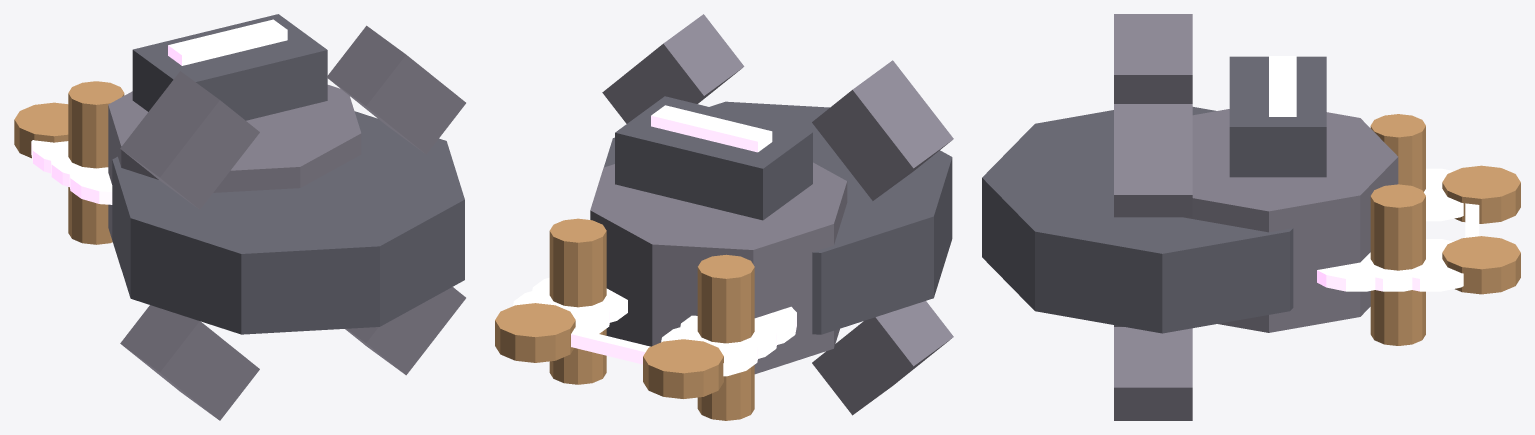
The model's file is enemy_torretta_emp.glb.
3 views of the same model, side by side, from view 1: azimuth 30°, elevation 25°; view 2: azimuth 150°, elevation 25°; view 3: azimuth 270°, elevation 25° (orthographic). The views are drawn at different scales.
Visible parts, largest first — view 1: BaseOct, FrontPlate, TurretBody, Leg_135, Leg_45, Leg_225, CoilCore_L, Leg_315, ScannerBar, CoilCap_L, CoilRing_L_0, CoilRing_L_1 (+1 smaller); view 2: TurretBody, BaseOct, FrontPlate, Leg_135, Leg_225, Leg_45, CoilCore_L, CoilCore_R, CoilCap_L, CoilCap_R, ScannerBar, CoilRing_L_2 (+5 smaller); view 3: BaseOct, TurretBody, FrontPlate, Leg_45, CoilCore_R, Leg_315, Leg_135, CoilCap_R, CoilCap_L, CoilCore_L, CoilRing_R_2, ScannerBar (+4 smaller).
Part boxes in pixels (x1=…): BaseOct: x1=112, y1=111, x2=464, y2=334; FrontPlate: x1=132, y1=14, x2=327, y2=120; TurretBody: x1=108, y1=85, x2=361, y2=268; Leg_135: x1=120, y1=71, x2=259, y2=209; Leg_45: x1=326, y1=25, x2=465, y2=154; Leg_225: x1=120, y1=305, x2=259, y2=420; CoilCore_L: x1=68, y1=81, x2=124, y2=244; Leg_315: x1=345, y1=287, x2=465, y2=375; ScannerBar: x1=168, y1=19, x2=287, y2=65; CoilCap_L: x1=14, y1=102, x2=68, y2=158; CoilRing_L_0: x1=69, y1=163, x2=112, y2=204; CoilRing_L_1: x1=50, y1=143, x2=88, y2=186; TurretBody: x1=590, y1=162, x2=847, y2=374; BaseOct: x1=604, y1=101, x2=952, y2=334; FrontPlate: x1=615, y1=96, x2=812, y2=220; Leg_135: x1=812, y1=60, x2=953, y2=200; Leg_225: x1=812, y1=301, x2=953, y2=415; Leg_45: x1=602, y1=14, x2=744, y2=123; CoilCore_L: x1=697, y1=254, x2=754, y2=420; CoilCore_R: x1=549, y1=218, x2=606, y2=384; CoilCap_L: x1=643, y1=339, x2=723, y2=398; CoilCap_R: x1=495, y1=303, x2=575, y2=362; ScannerBar: x1=651, y1=105, x2=772, y2=152; CoilRing_L_2: x1=661, y1=324, x2=758, y2=376; BaseOct: x1=982, y1=107, x2=1293, y2=333; TurretBody: x1=1184, y1=109, x2=1398, y2=332; FrontPlate: x1=1229, y1=56, x2=1326, y2=177; Leg_45: x1=1114, y1=104, x2=1192, y2=217; CoilCore_R: x1=1370, y1=184, x2=1425, y2=345; Leg_315: x1=1114, y1=327, x2=1192, y2=420; Leg_135: x1=1114, y1=14, x2=1192, y2=103; CoilCap_R: x1=1442, y1=236, x2=1520, y2=294; CoilCap_L: x1=1442, y1=165, x2=1520, y2=223; CoilCore_L: x1=1370, y1=114, x2=1425, y2=191; CoilRing_R_2: x1=1406, y1=239, x2=1463, y2=291; ScannerBar: x1=1269, y1=56, x2=1296, y2=116.
Size of the model in its own units: 1.56 by 1.51 by 2.33.
